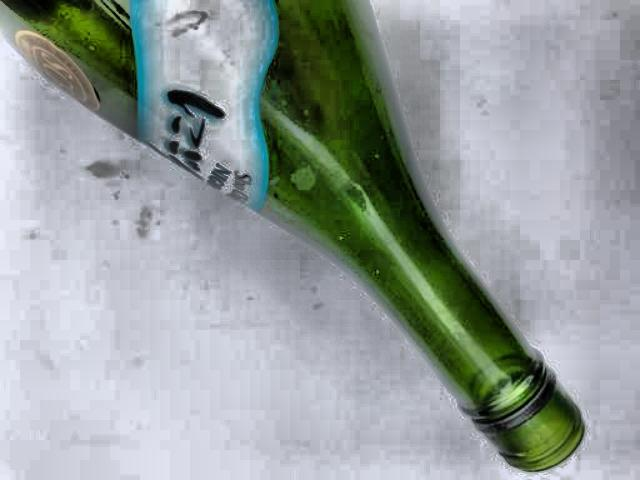Bottles: (8, 0, 593, 480)
